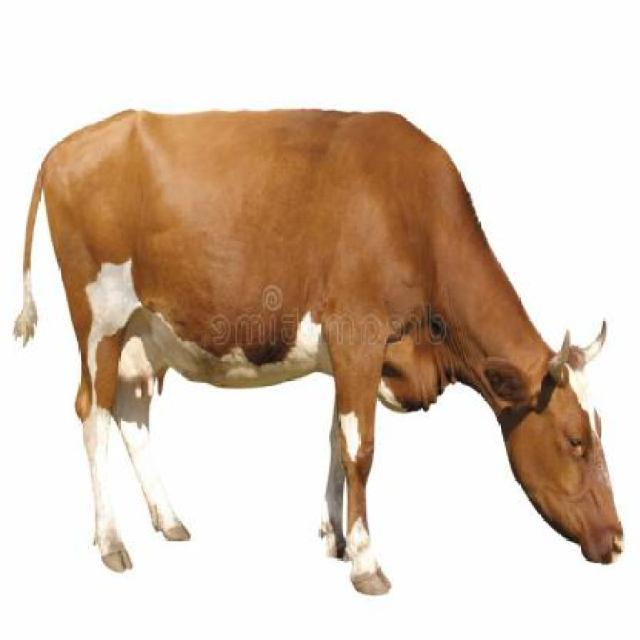Cow: (12, 101, 626, 597)
